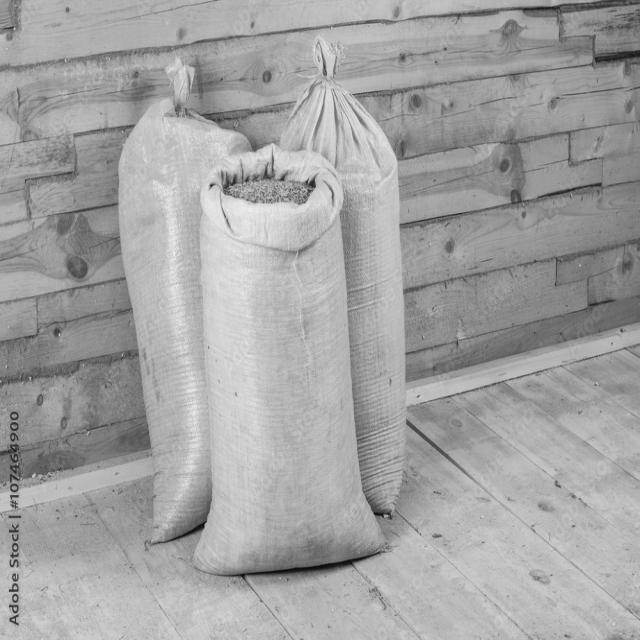sack: (192, 144, 390, 575), (118, 57, 254, 544), (278, 37, 406, 517)
